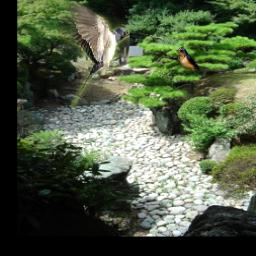Swallow: (61, 0, 131, 107), (176, 47, 208, 69)
